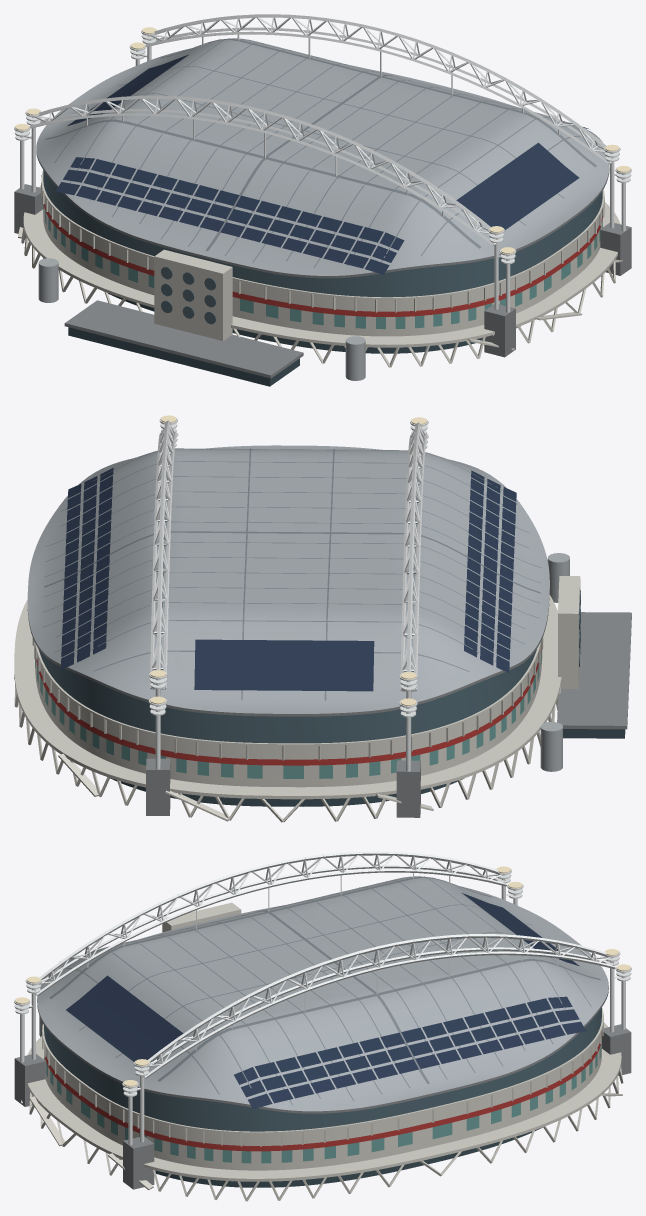
File: johan-cruijff-arena-near.glb
3 renders of one model, top to bottom at view 1: azimuth 30°, elevation 25°; view 2: azimuth 150°, elevation 25°; view 3: azimuth 270°, elevation 25°, orthographic. The views are drawn at different scales.
Parts seen in each view (by area): view 1: johan-cruijff-arena-0-roof, johan-cruijff-arena-0-concrete, johan-cruijff-arena-0-solar, johan-cruijff-arena-0-truss, johan-cruijff-arena-0-concrete_dark, johan-cruijff-arena-0-glass, johan-cruijff-arena-0-roof_seam, johan-cruijff-arena-0-glow, johan-cruijff-arena-0-teal, johan-cruijff-arena-0-red, johan-cruijff-arena-0-metal, johan-cruijff-arena-0-light; view 2: johan-cruijff-arena-0-roof, johan-cruijff-arena-0-concrete, johan-cruijff-arena-0-solar, johan-cruijff-arena-0-glass, johan-cruijff-arena-0-concrete_dark, johan-cruijff-arena-0-truss, johan-cruijff-arena-0-roof_seam, johan-cruijff-arena-0-teal, johan-cruijff-arena-0-red, johan-cruijff-arena-0-glow, johan-cruijff-arena-0-metal, johan-cruijff-arena-0-light; view 3: johan-cruijff-arena-0-roof, johan-cruijff-arena-0-concrete, johan-cruijff-arena-0-truss, johan-cruijff-arena-0-solar, johan-cruijff-arena-0-glass, johan-cruijff-arena-0-roof_seam, johan-cruijff-arena-0-concrete_dark, johan-cruijff-arena-0-teal, johan-cruijff-arena-0-red, johan-cruijff-arena-0-glow, johan-cruijff-arena-0-light.
Part boxes in pixels (bbox=[...]): johan-cruijff-arena-0-roof: bbox=[36, 38, 609, 275]; johan-cruijff-arena-0-concrete: bbox=[18, 170, 622, 367]; johan-cruijff-arena-0-solar: bbox=[55, 54, 588, 274]; johan-cruijff-arena-0-truss: bbox=[14, 14, 631, 312]; johan-cruijff-arena-0-concrete_dark: bbox=[14, 151, 631, 378]; johan-cruijff-arena-0-glass: bbox=[43, 170, 602, 324]; johan-cruijff-arena-0-roof_seam: bbox=[45, 38, 596, 268]; johan-cruijff-arena-0-glow: bbox=[68, 291, 520, 386]; johan-cruijff-arena-0-teal: bbox=[43, 204, 602, 329]; johan-cruijff-arena-0-red: bbox=[43, 204, 602, 316]; johan-cruijff-arena-0-metal: bbox=[38, 258, 365, 380]; johan-cruijff-arena-0-light: bbox=[15, 27, 630, 253]; johan-cruijff-arena-0-roof: bbox=[27, 445, 549, 713]; johan-cruijff-arena-0-concrete: bbox=[14, 576, 580, 822]; johan-cruijff-arena-0-solar: bbox=[60, 468, 516, 691]; johan-cruijff-arena-0-glass: bbox=[38, 590, 580, 743]; johan-cruijff-arena-0-concrete_dark: bbox=[27, 589, 631, 817]; johan-cruijff-arena-0-truss: bbox=[148, 417, 428, 771]; johan-cruijff-arena-0-roof_seam: bbox=[43, 448, 541, 700]; johan-cruijff-arena-0-teal: bbox=[35, 649, 541, 778]; johan-cruijff-arena-0-red: bbox=[36, 648, 541, 765]; johan-cruijff-arena-0-glow: bbox=[110, 729, 625, 806]; johan-cruijff-arena-0-metal: bbox=[540, 553, 569, 771]; johan-cruijff-arena-0-light: bbox=[150, 415, 427, 705]; johan-cruijff-arena-0-roof: bbox=[37, 876, 608, 1111]; johan-cruijff-arena-0-concrete: bbox=[21, 902, 623, 1201]; johan-cruijff-arena-0-truss: bbox=[14, 851, 631, 1144]; johan-cruijff-arena-0-solar: bbox=[66, 893, 586, 1109]; johan-cruijff-arena-0-glass: bbox=[44, 1007, 601, 1131]; johan-cruijff-arena-0-roof_seam: bbox=[49, 876, 600, 1105]; johan-cruijff-arena-0-concrete_dark: bbox=[14, 987, 631, 1189]; johan-cruijff-arena-0-teal: bbox=[44, 1038, 601, 1163]; johan-cruijff-arena-0-red: bbox=[45, 1033, 601, 1151]; johan-cruijff-arena-0-glow: bbox=[155, 1127, 542, 1187]; johan-cruijff-arena-0-light: bbox=[15, 866, 630, 1086].
Size of the model in its own units: 225 by 74.95 by 232.
